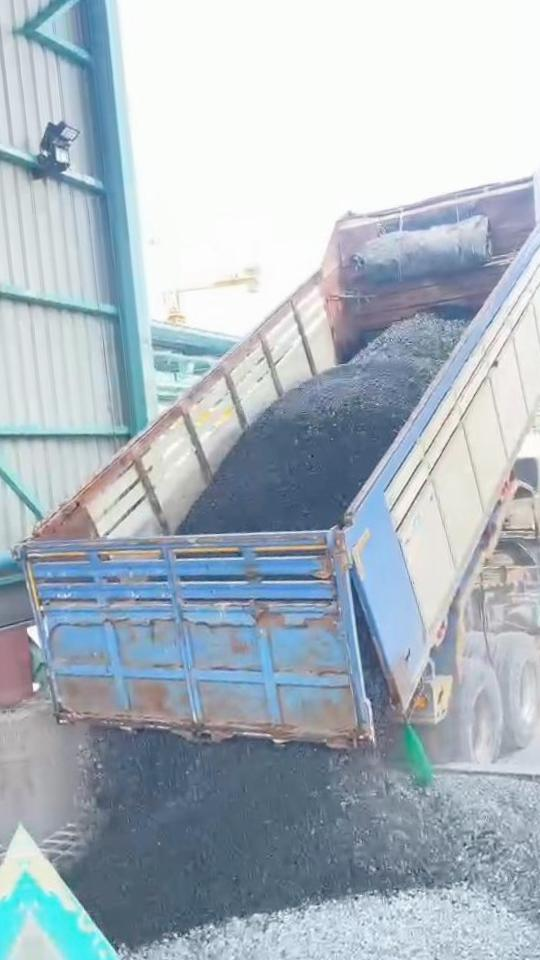gravel: (67, 731, 540, 960), (178, 312, 466, 534), (357, 616, 388, 722)
